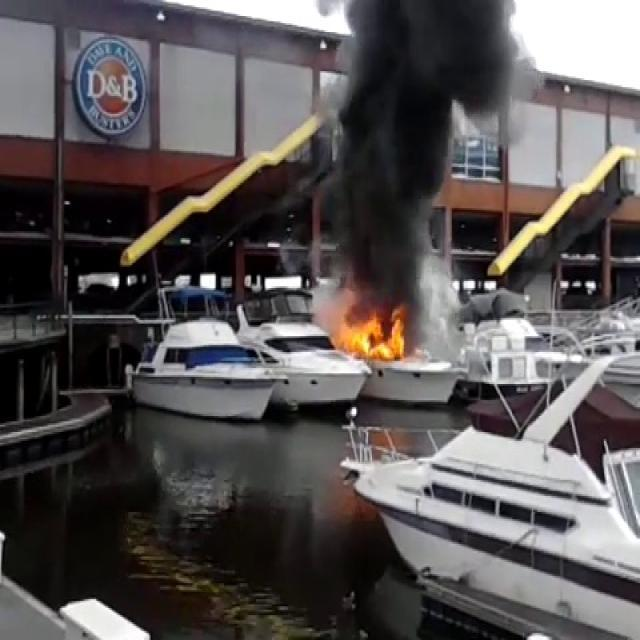Fire: (323, 292, 416, 366)
Smoke: (304, 0, 540, 281)
